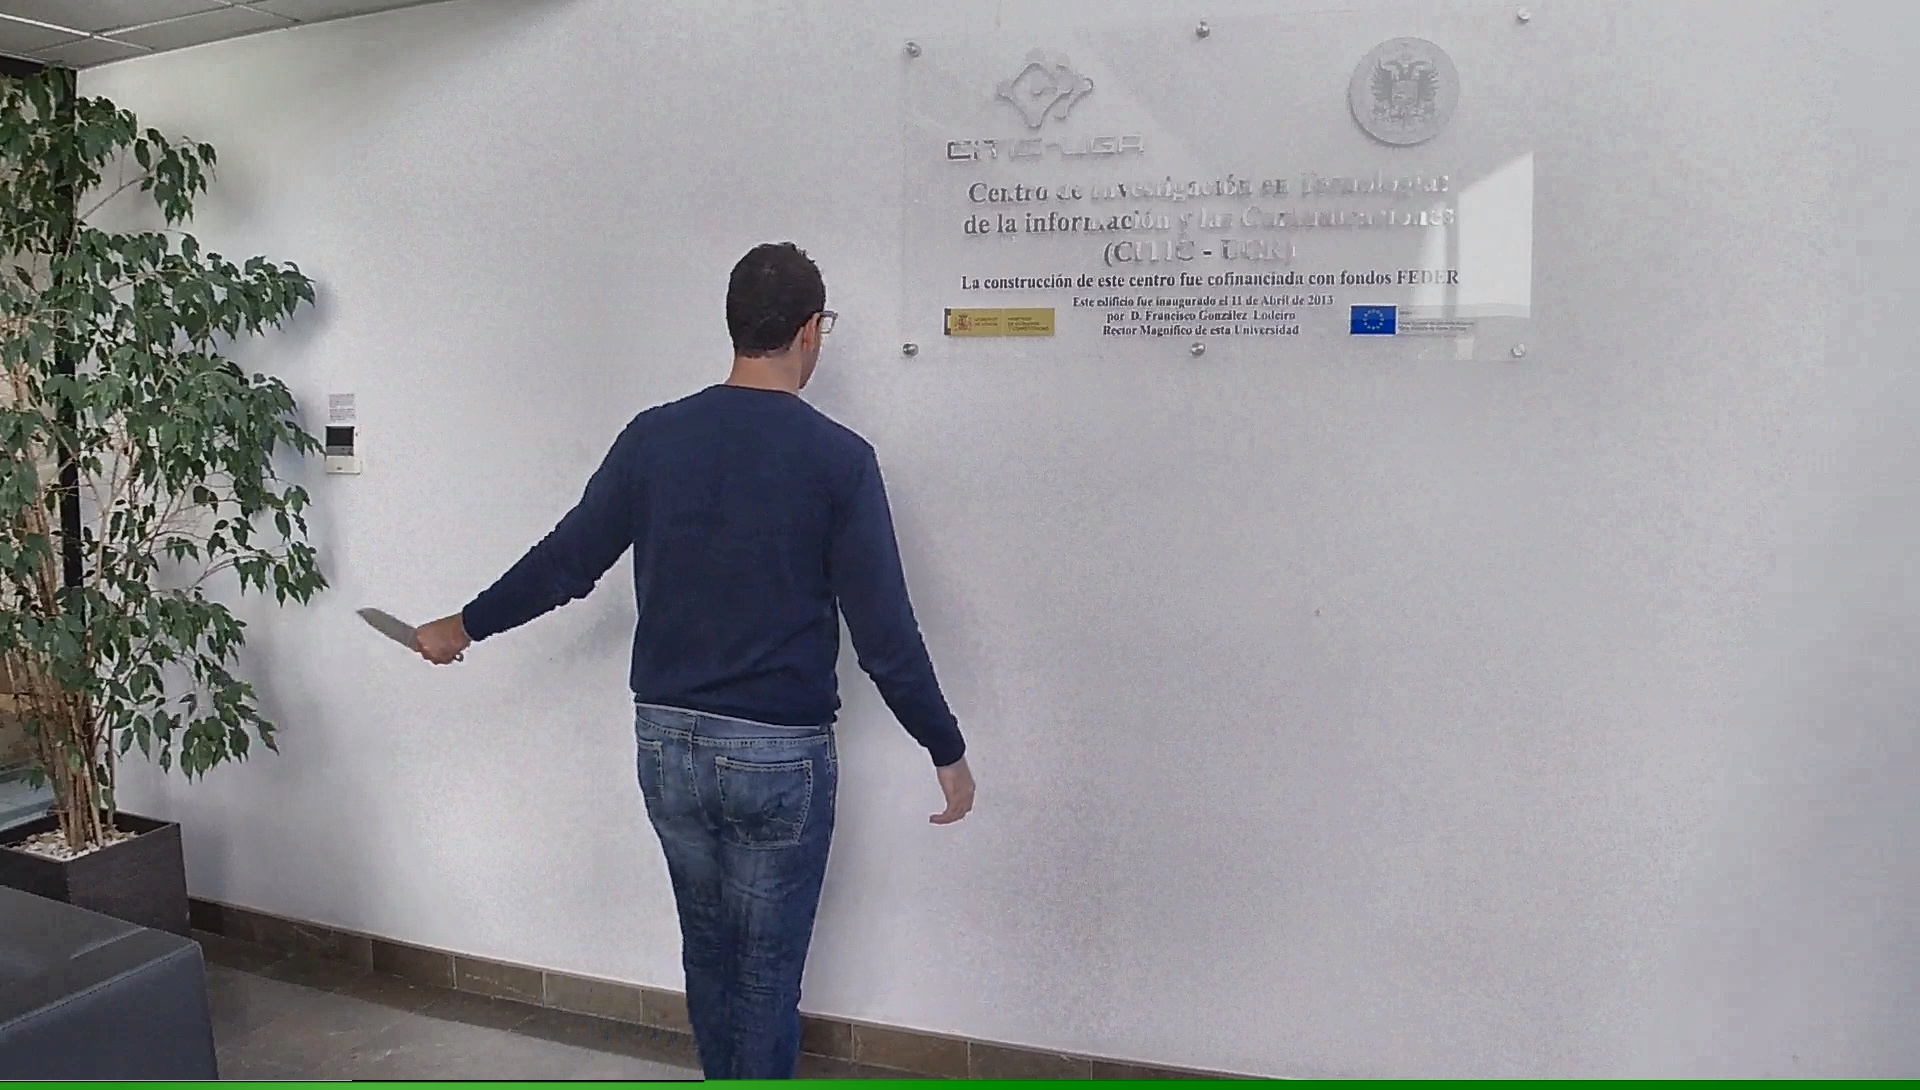knife: (343, 597, 472, 670)
